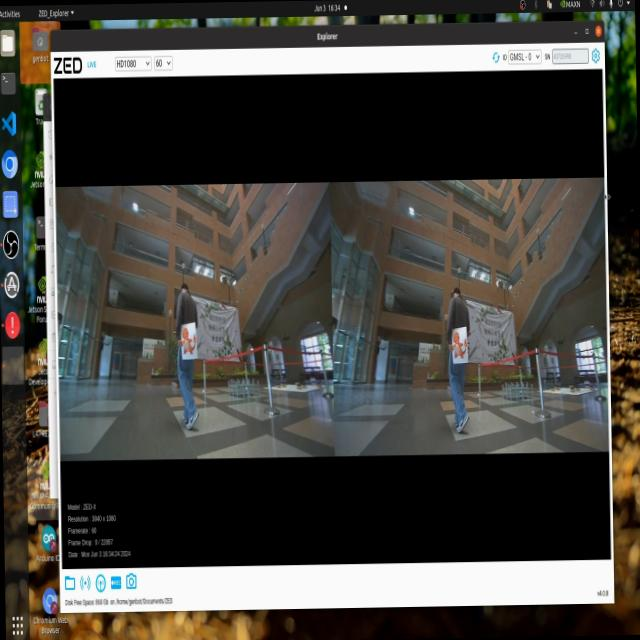red: (182, 327, 198, 355), (452, 326, 464, 350)
